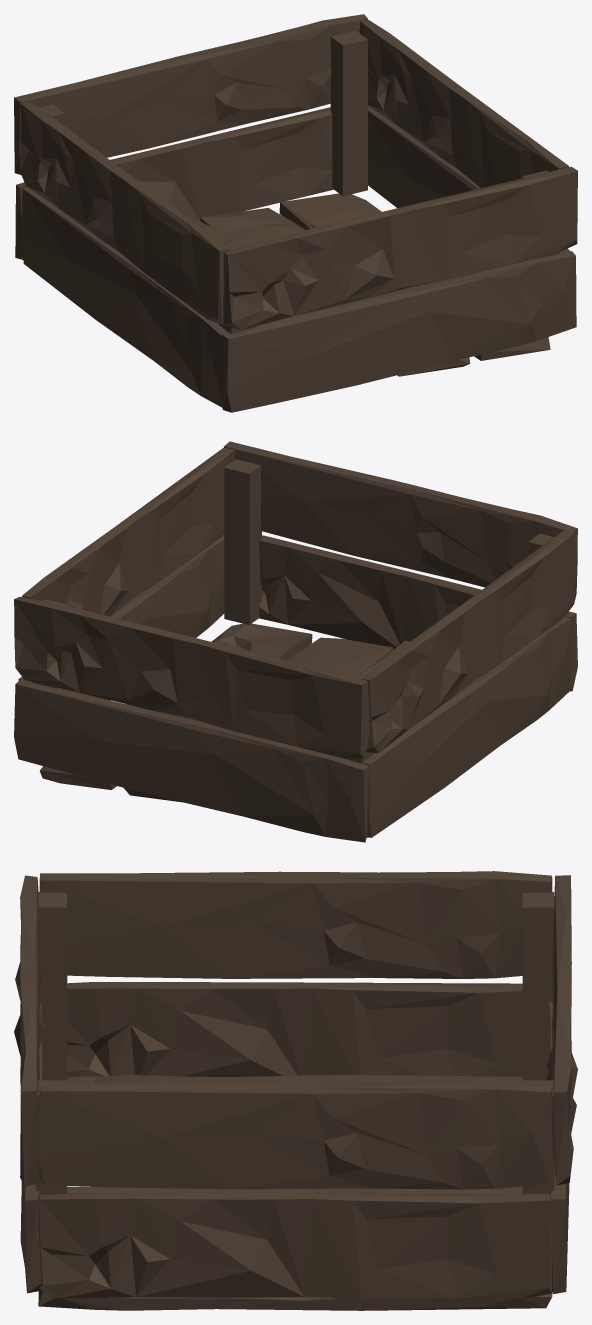
Rendered from SM_wooden_crate.fbx.
3 views of the same model, one above another, from view 1: azimuth 30°, elevation 25°; view 2: azimuth 150°, elevation 25°; view 3: azimuth 270°, elevation 25° (orthographic). The views are drawn at different scales.
Visible parts, largest first — view 1: wooden_crate; view 2: wooden_crate; view 3: wooden_crate.
Part boxes in pixels (bbox=[...]): wooden_crate: bbox=[14, 14, 577, 412]; wooden_crate: bbox=[14, 441, 577, 842]; wooden_crate: bbox=[14, 871, 577, 1310].
Size of the model in its own units: 151 by 73.03 by 160.
